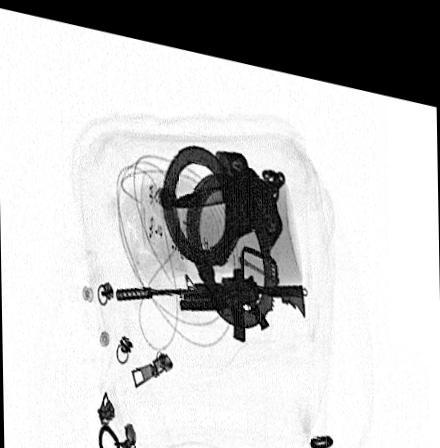Bullet: (170, 173, 237, 199)
Gun: (113, 255, 304, 330)
HandCuffs: (158, 131, 283, 319)
